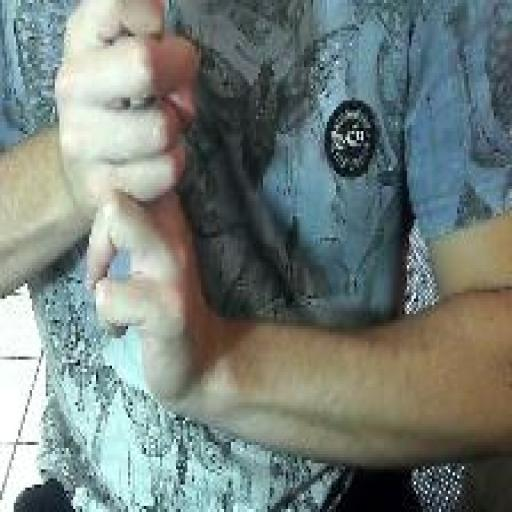Ne -rat-: (52, 0, 218, 430)
